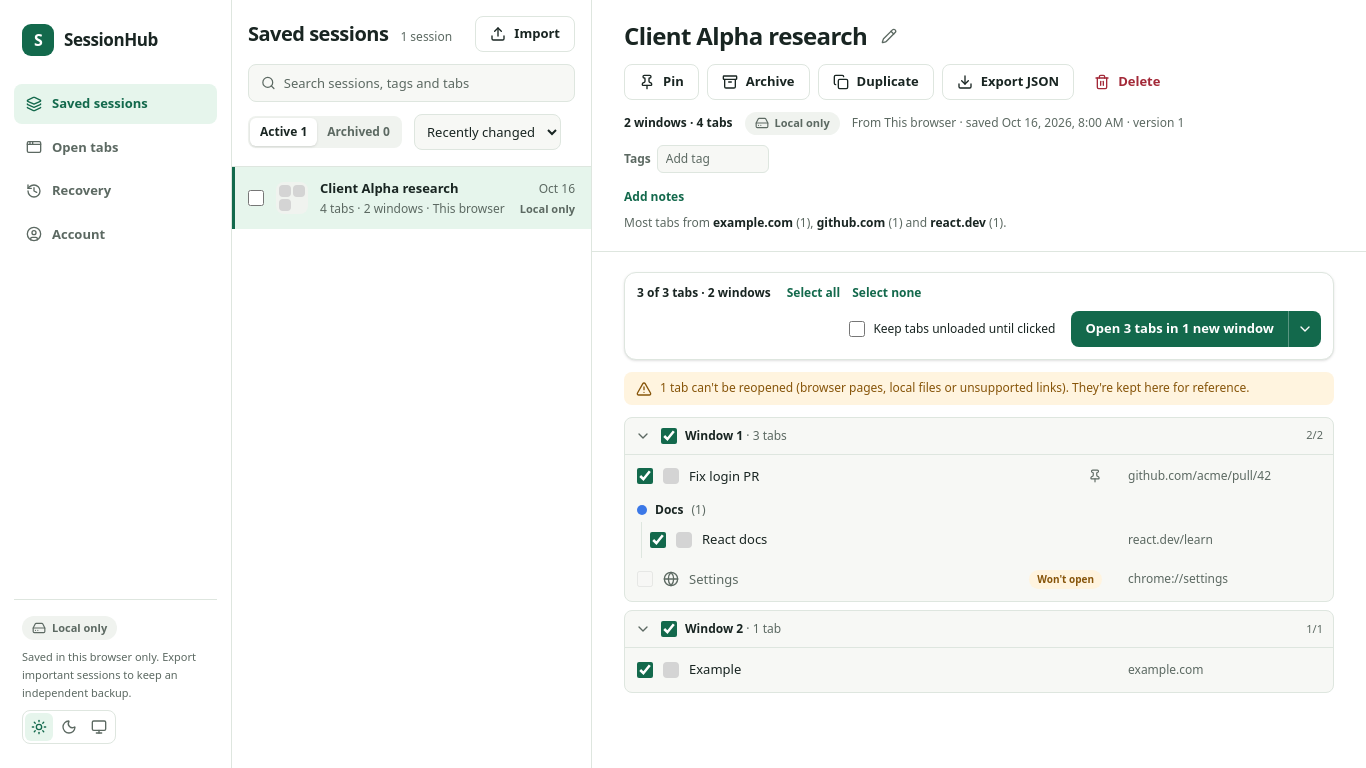
Scenario: open picker › puts only the ticked tabs in one new window
Click the checkbox named "Fix login PR" next to "Fix login PR" at (645, 476), box x1=637 y1=468 x2=653 y2=484
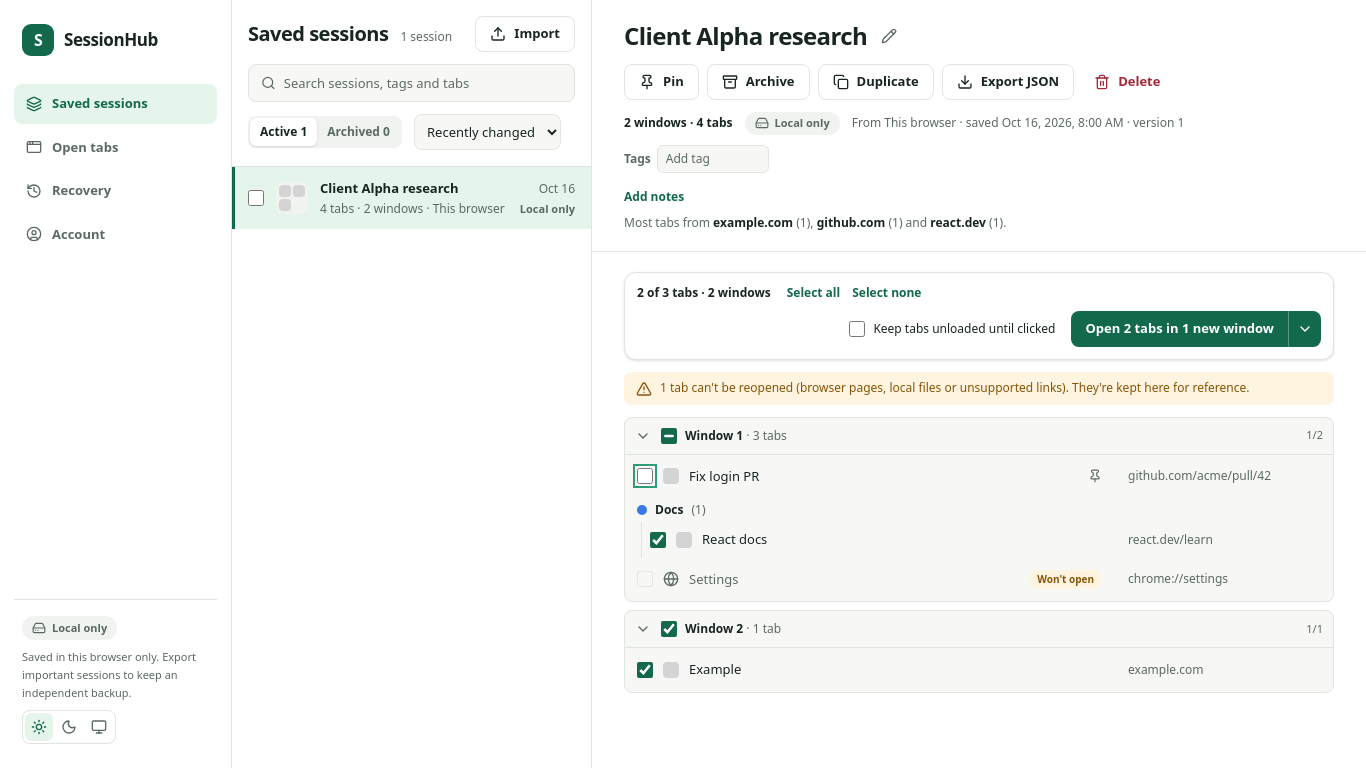
Click the button "Open 2 tabs in 1 new window" at (1180, 329), box x1=1072 y1=311 x2=1288 y2=347
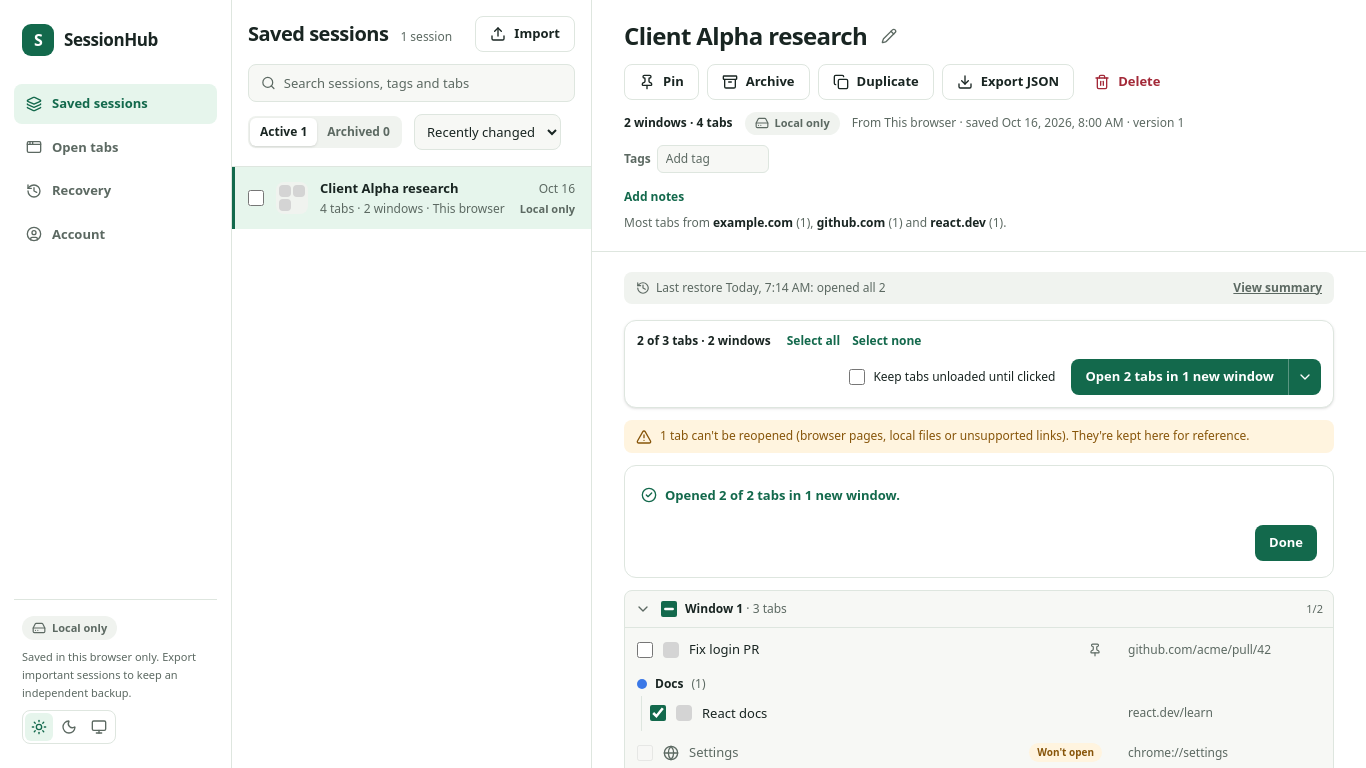
Check: the text "Opened 2 of 2 tabs in 1 new window." is shown, box x1=641 y1=486 x2=900 y2=504
